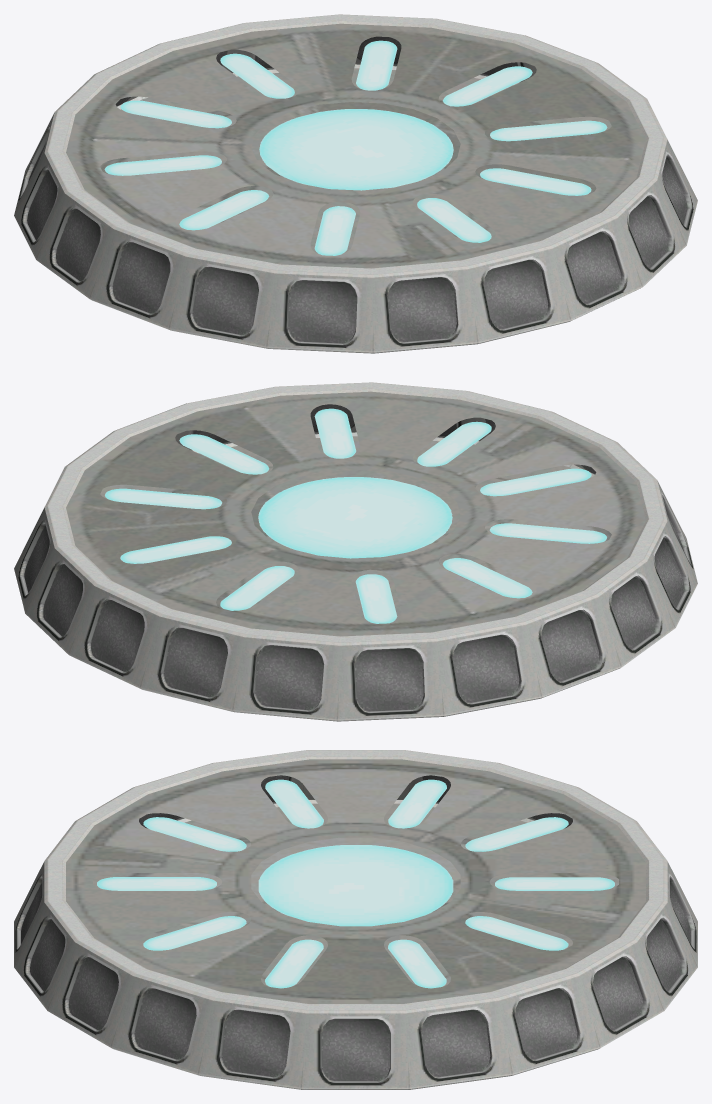
Rendered from ui_char_cust_pedestal.fbx.
3 views of the same model, one above another, from view 1: azimuth 30°, elevation 25°; view 2: azimuth 150°, elevation 25°; view 3: azimuth 270°, elevation 25° (orthographic).
Parts seen in each view (by area): view 1: mesh_node; view 2: mesh_node; view 3: mesh_node.
Boxes of the visible parts, x1,y1,x2,y2 form: mesh_node: [14, 14, 697, 353]; mesh_node: [14, 382, 697, 721]; mesh_node: [14, 750, 697, 1089].
Size of the model in its own units: 0.9276 by 0.0996 by 0.9276.
2 materials, 2 textured.
